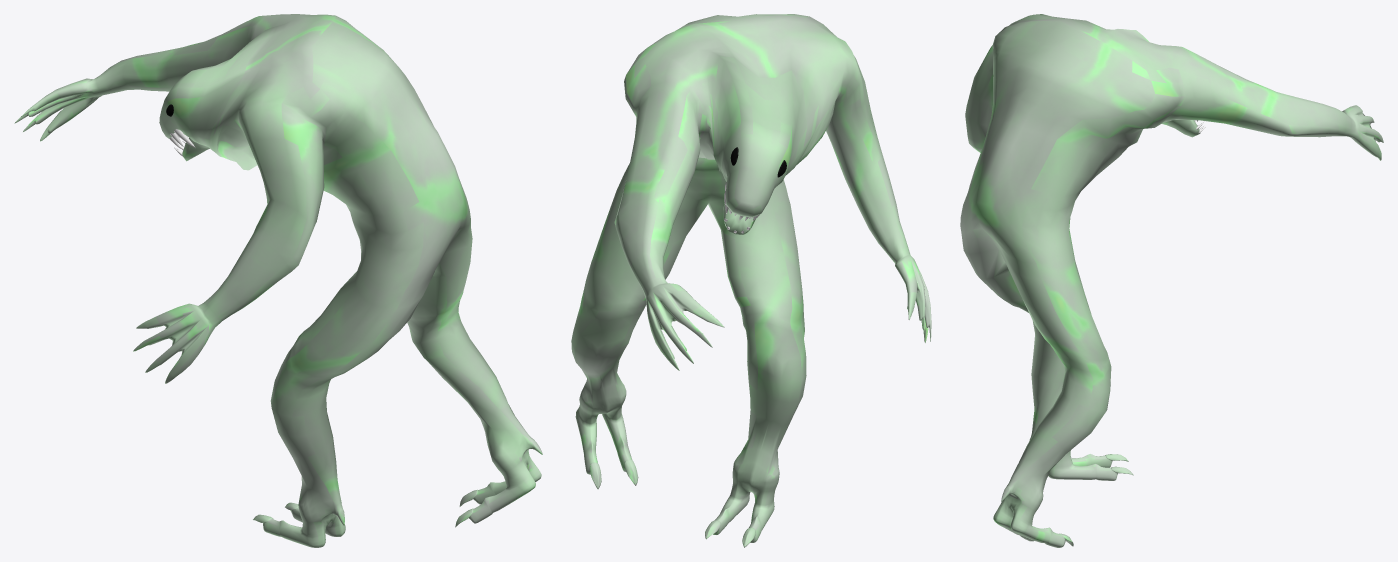
File: Berserkeraranar.0036.obj
3 renders of one model, left to right at view 1: azimuth 30°, elevation 25°; view 2: azimuth 150°, elevation 25°; view 3: azimuth 270°, elevation 25°, orthographic. The views are drawn at different scales.
Visible parts, largest first — view 1: polySurface27; view 2: polySurface27; view 3: polySurface27.
Part boxes in pixels (x1,y1,x2,y2): polySurface27: (14, 14, 542, 547); polySurface27: (571, 14, 931, 547); polySurface27: (960, 14, 1383, 547).
Bounding box in the file's own units: 16 × 20.59 × 17.17.
1 material, 1 textured.
